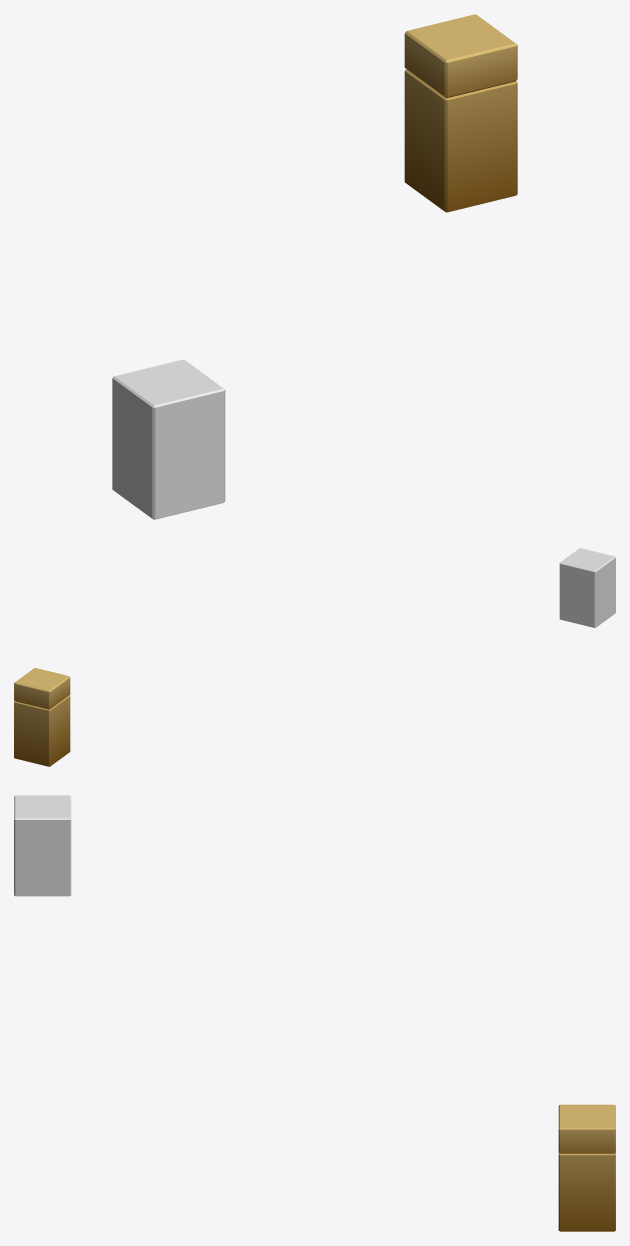
The model's file is Enviroment__Collection_001.fbx.
The picture shows the model from 3 angles, top to bottom: view 1: azimuth 30°, elevation 25°; view 2: azimuth 150°, elevation 25°; view 3: azimuth 270°, elevation 25°; orthographic projection. The views are drawn at different scales.
Visible parts, largest first — view 1: Cube.003, Cube.002; view 2: Cube.003, Cube.002; view 3: Cube.003, Cube.002.
Boxes of the visible parts, x1=… form: Cube.003: x1=404, y1=14, x2=517, y2=212; Cube.002: x1=112, y1=359, x2=225, y2=519; Cube.003: x1=14, y1=668, x2=70, y2=766; Cube.002: x1=559, y1=548, x2=615, y2=627; Cube.003: x1=558, y1=1104, x2=615, y2=1231; Cube.002: x1=14, y1=795, x2=71, y2=896.
Size of the model in its own units: 210 by 70.39 by 210.
